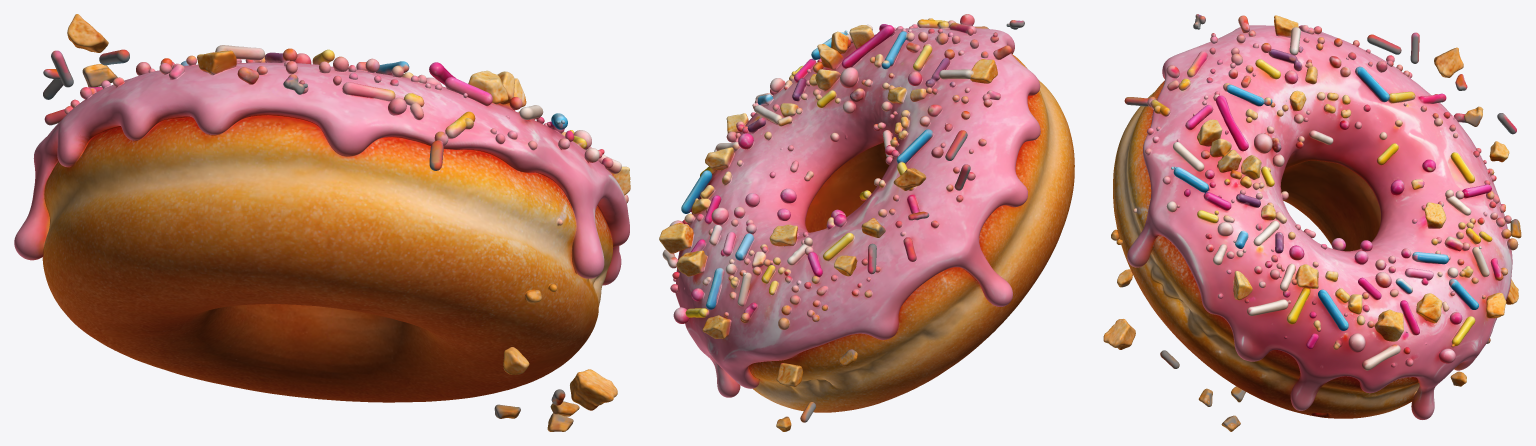
The model's file is pink-frosted-donut.glb.
The picture shows the model from 3 angles, left to right: view 1: azimuth 30°, elevation 25°; view 2: azimuth 150°, elevation 25°; view 3: azimuth 270°, elevation 25°; orthographic projection. The views are drawn at different scales.
Parts seen in each view (by area): view 1: tripo_node_475e5b89-2ecc-4757-a74c-1897cf436fbc; view 2: tripo_node_475e5b89-2ecc-4757-a74c-1897cf436fbc; view 3: tripo_node_475e5b89-2ecc-4757-a74c-1897cf436fbc.
Boxes of the visible parts, box(x1,y1,x2,y2) form: tripo_node_475e5b89-2ecc-4757-a74c-1897cf436fbc: box(14, 14, 630, 431); tripo_node_475e5b89-2ecc-4757-a74c-1897cf436fbc: box(659, 14, 1074, 431); tripo_node_475e5b89-2ecc-4757-a74c-1897cf436fbc: box(1103, 14, 1521, 431).
Bounding box in the file's own units: 0.1157 × 0.1 × 0.1166.
1 material, 1 textured.
